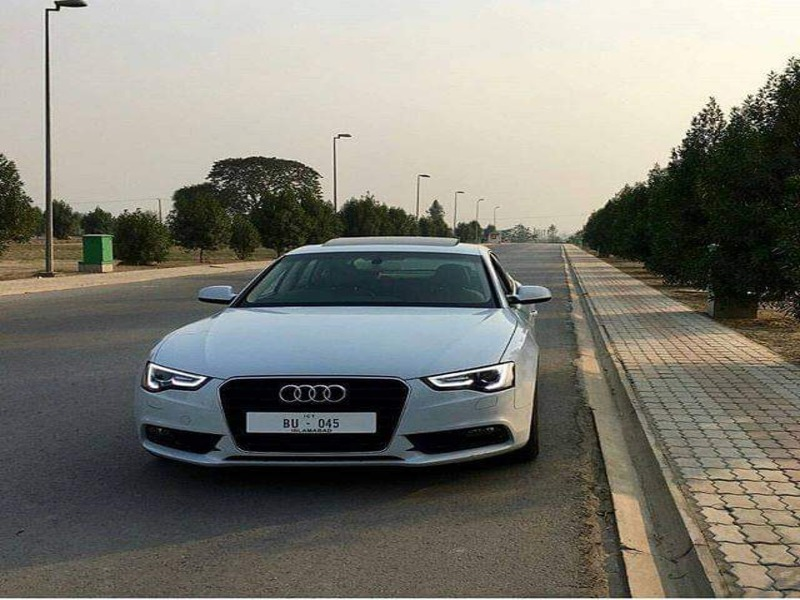License Plate: (242, 408, 381, 441)
